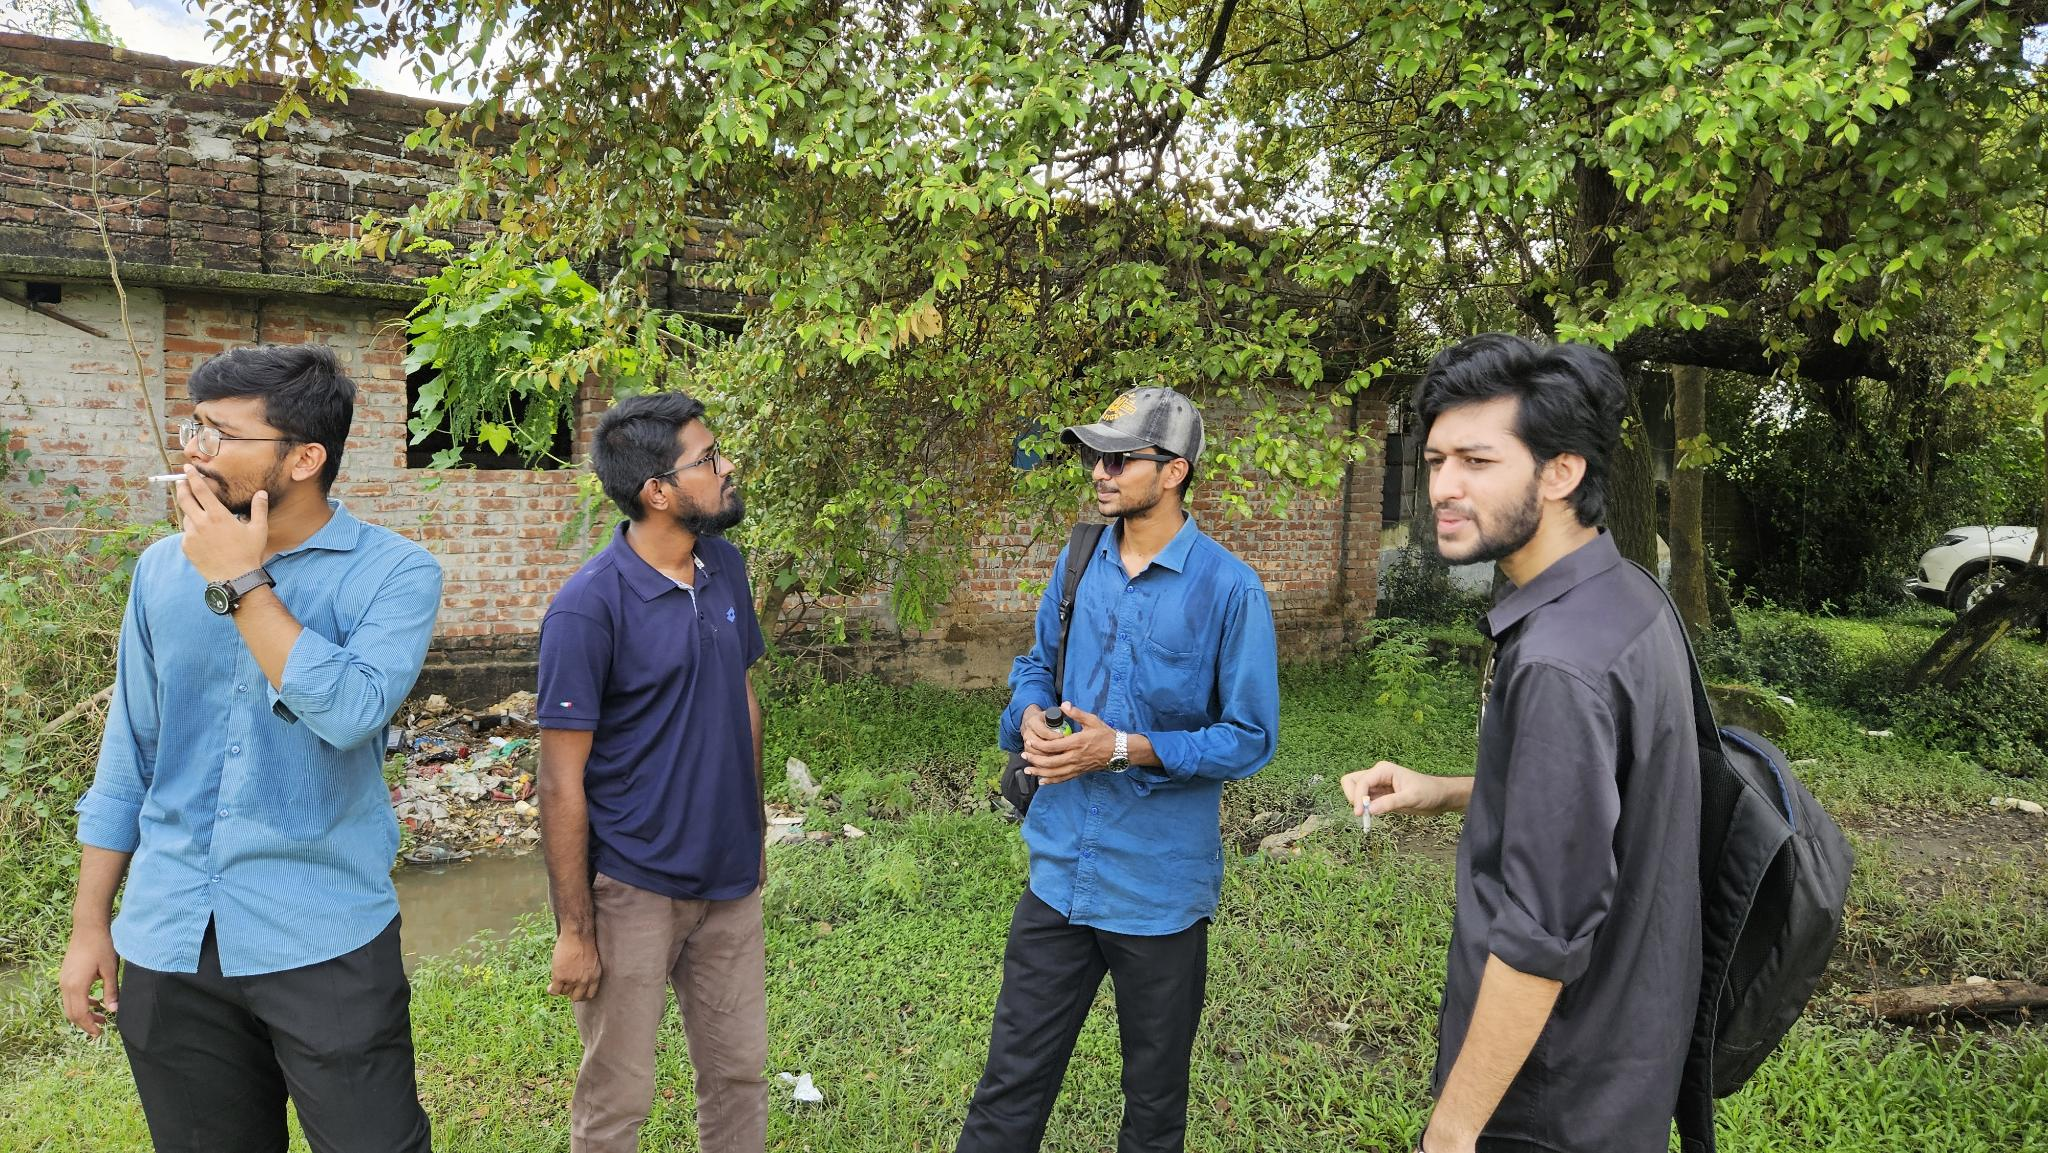cigarette: (145, 470, 208, 484), (1360, 793, 1373, 838)
nonSmoker: (954, 387, 1284, 1153), (536, 391, 768, 1153)
smoker: (1338, 337, 1854, 1153), (62, 344, 444, 1153)
